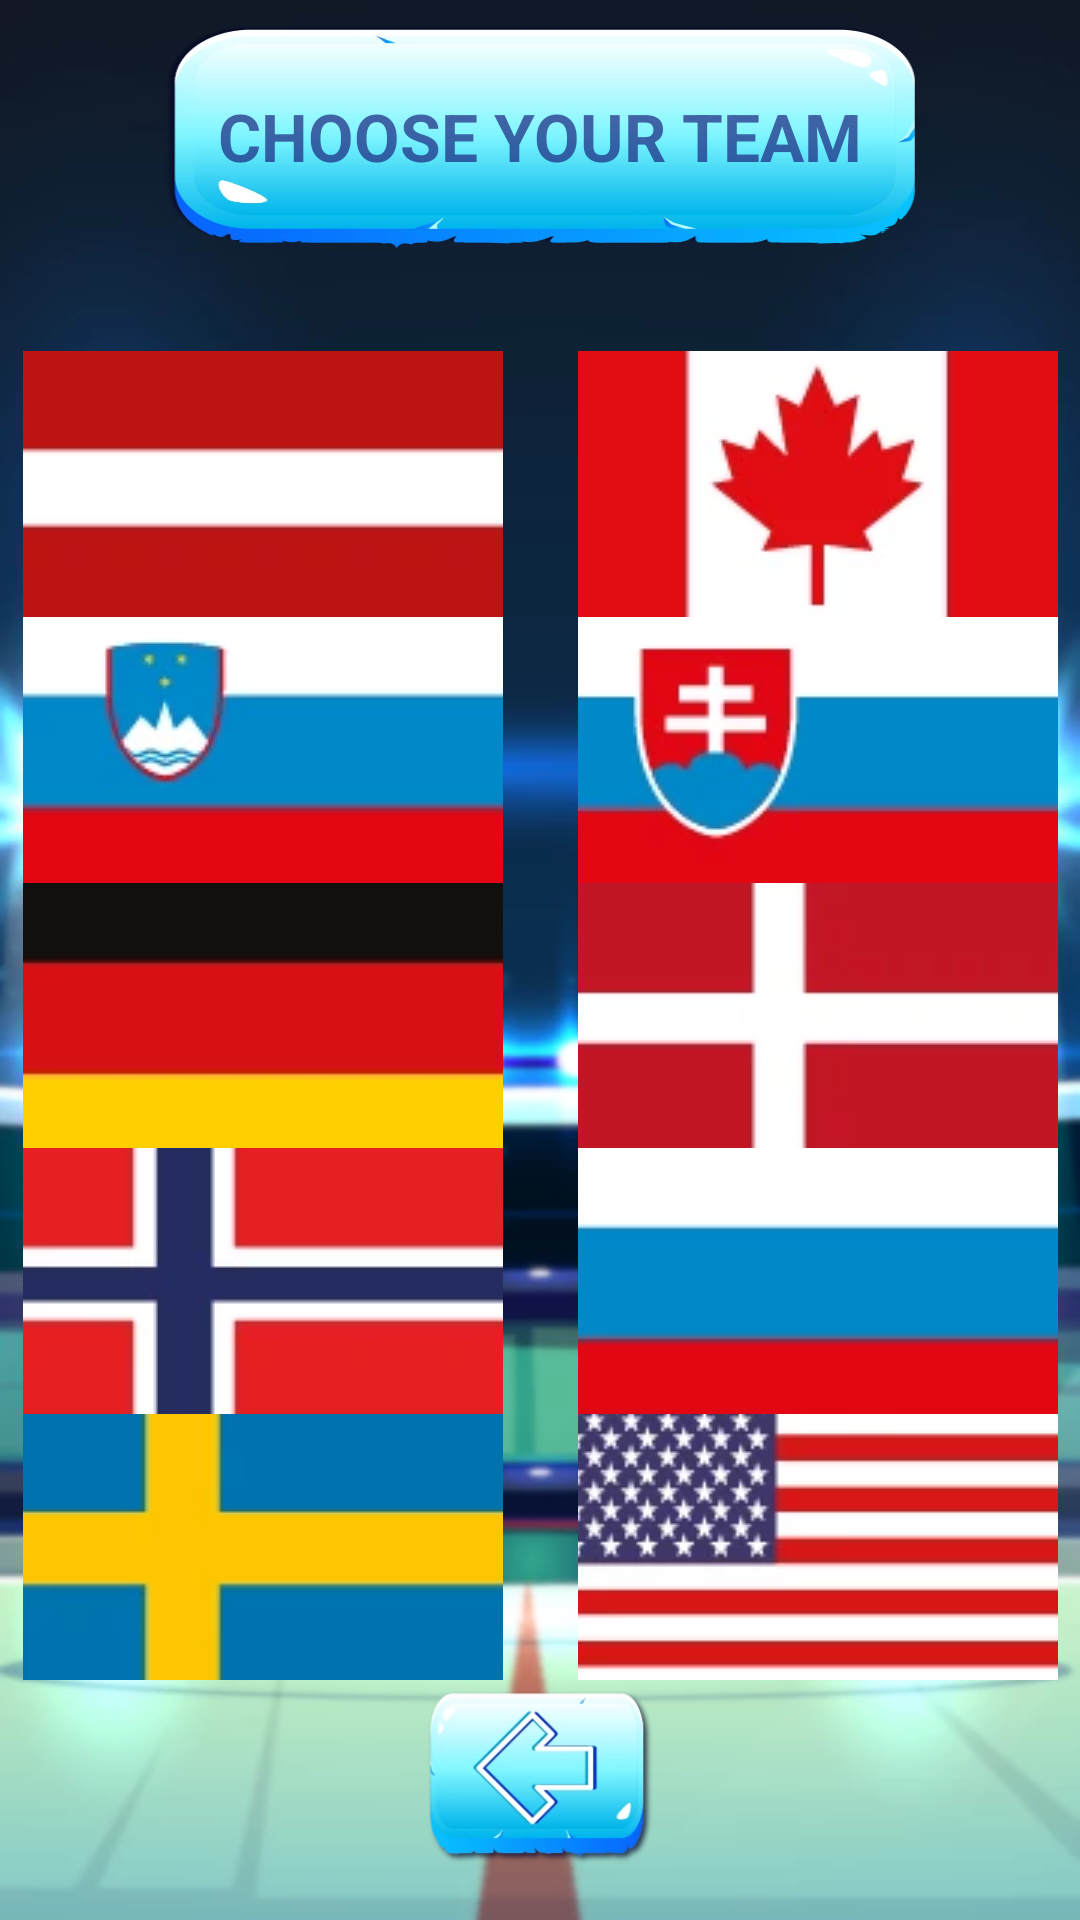

Screen size 1080px×1920px. Icon name, then its center in pixels as (x=x, y=y):
back: (x=540, y=1779)
